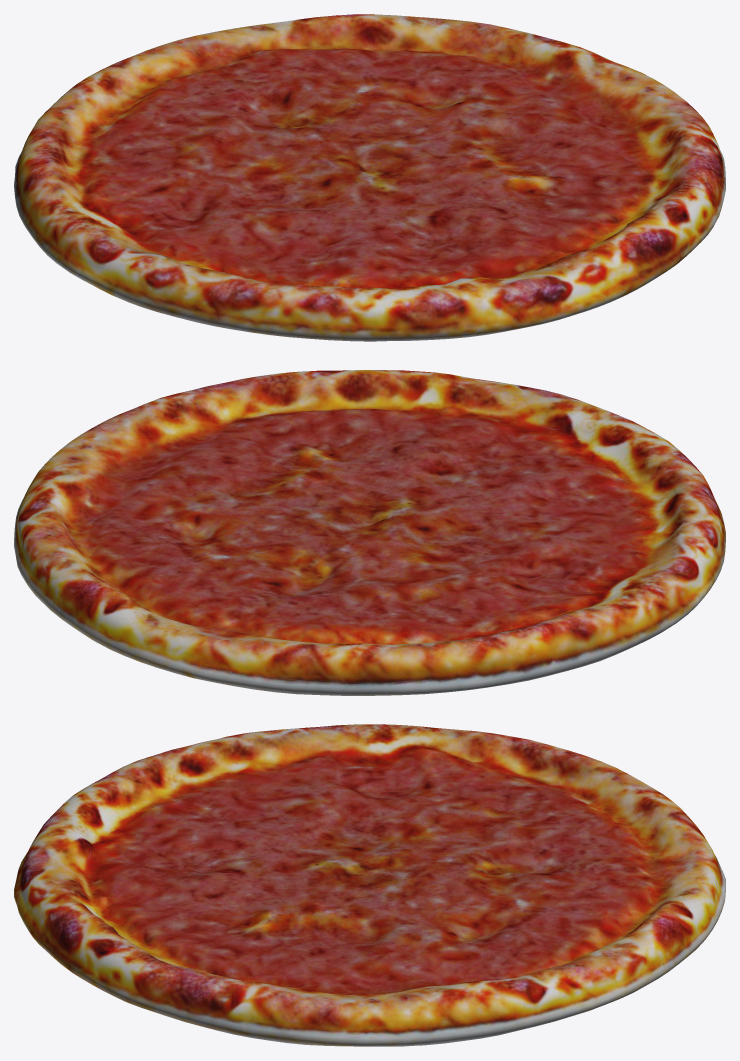
Rendered from Pizza.fbx.
3 views of the same model, one above another, from view 1: azimuth 30°, elevation 25°; view 2: azimuth 150°, elevation 25°; view 3: azimuth 270°, elevation 25° (orthographic).
Parts seen in each view (by area): view 1: mesh; view 2: mesh; view 3: mesh.
Boxes of the visible parts, left/top/right/bottom form: mesh: left=14, top=14, right=725, bottom=341; mesh: left=14, top=370, right=725, bottom=695; mesh: left=14, top=724, right=725, bottom=1046.
Size of the model in its own units: 99.79 by 7.32 by 99.74.
